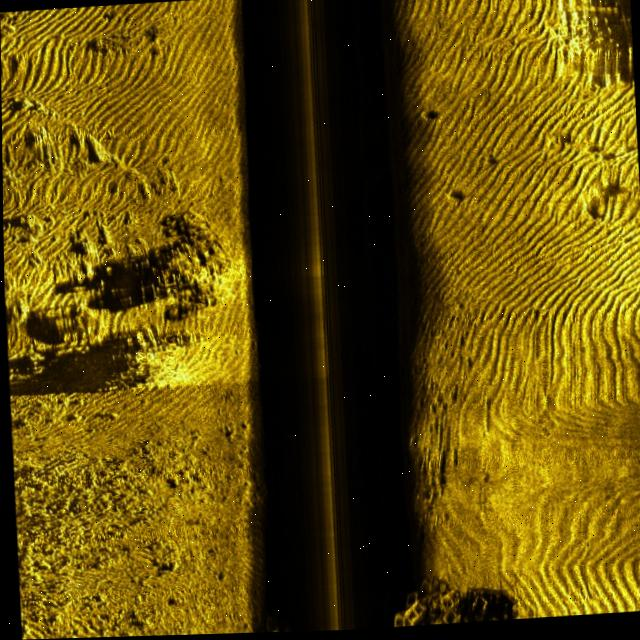artificial reef: (384, 570, 485, 629)
